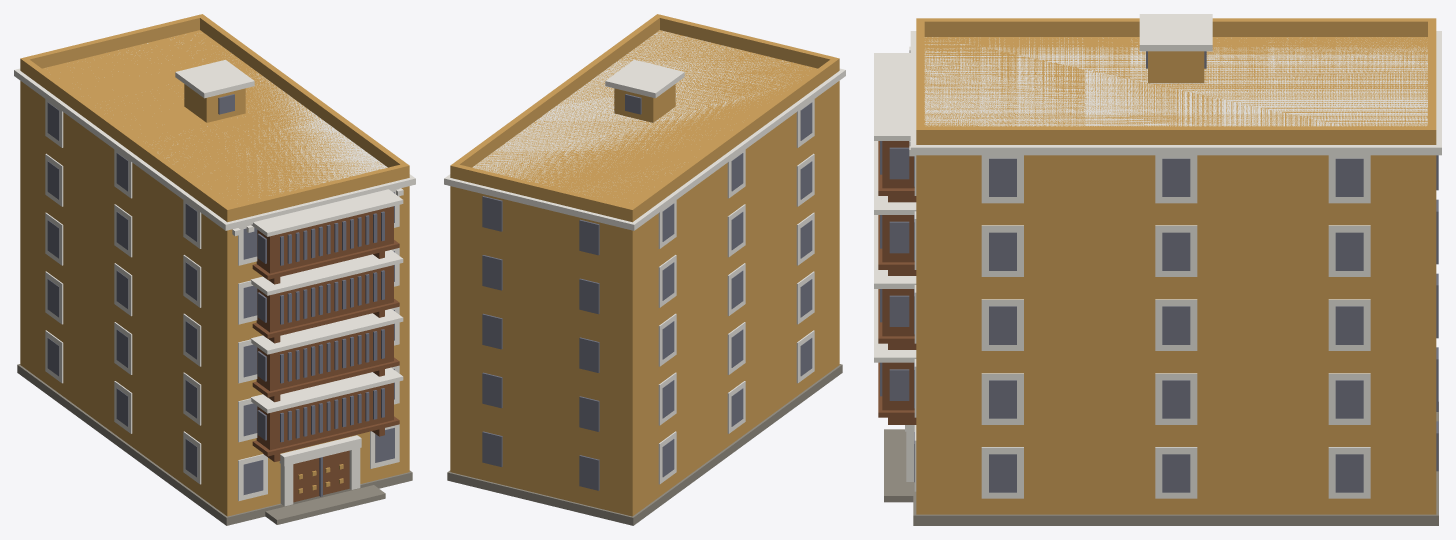
The model's file is house-1x2-5f-quincha-a.glb.
3 renders of one model, left to right at view 1: azimuth 30°, elevation 25°; view 2: azimuth 150°, elevation 25°; view 3: azimuth 270°, elevation 25°, orthographic. The views are drawn at different scales.
Visible parts, largest first — view 1: house-1x2-5f-quincha-a; view 2: house-1x2-5f-quincha-a; view 3: house-1x2-5f-quincha-a.
Part boxes in pixels (box(x1,y1,x2,y2)): house-1x2-5f-quincha-a: box(14, 14, 415, 525); house-1x2-5f-quincha-a: box(444, 14, 845, 525); house-1x2-5f-quincha-a: box(874, 14, 1441, 525).
Bounding box in the file's own units: 0.98 × 1.73 × 2.02.
Materials: 1 (1 with a texture image).
